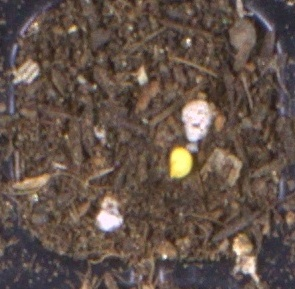chilli seed: (168, 147, 193, 179)
